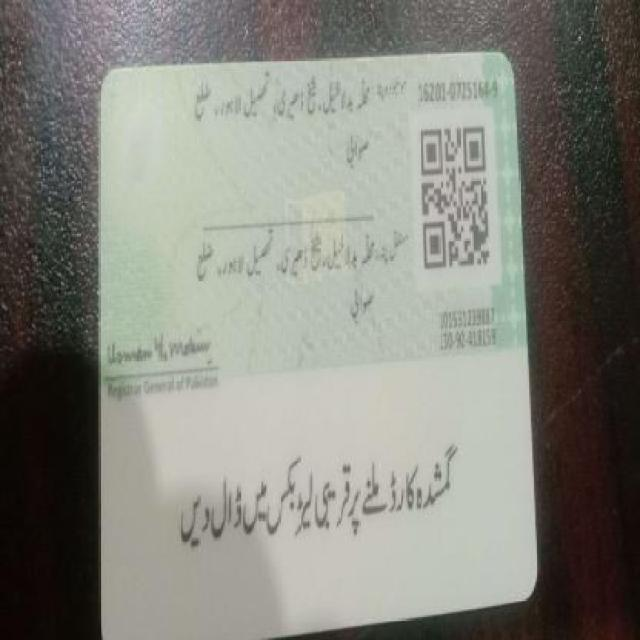Back: (77, 49, 548, 628)
